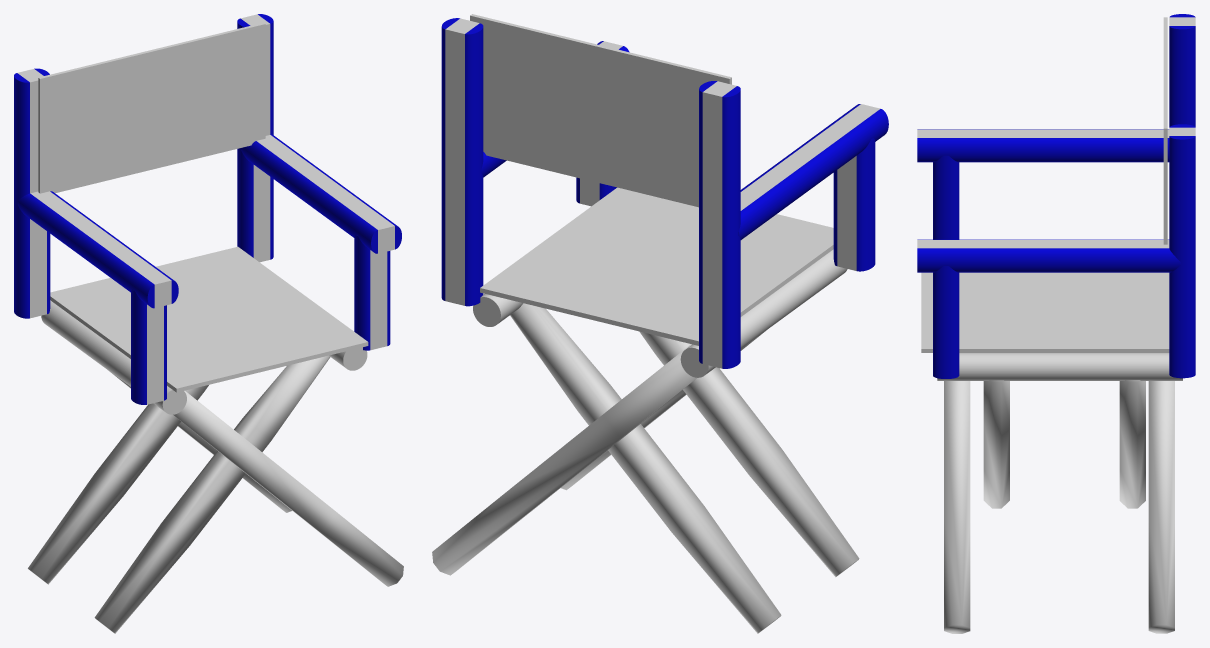
File: sedia regia.fbx
The picture shows the model from 3 angles, left to right: view 1: azimuth 30°, elevation 25°; view 2: azimuth 150°, elevation 25°; view 3: azimuth 270°, elevation 25°; orthographic projection. The views are drawn at different scales.
Parts seen in each view (by area): view 1: supporto2, telo2; view 2: supporto2, telo2; view 3: supporto2, telo2.
Part boxes in pixels (bbox=[...]): supporto2: bbox=[14, 14, 403, 633]; telo2: bbox=[38, 22, 368, 392]; supporto2: bbox=[432, 18, 888, 633]; telo2: bbox=[470, 14, 833, 345]; supporto2: bbox=[917, 14, 1195, 633]; telo2: bbox=[921, 17, 1169, 352].
Size of the model in its own units: 80.95 by 133 by 67.67.
